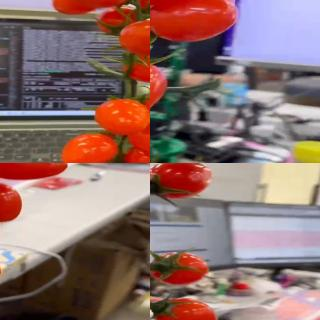tomato: (150, 0, 241, 41), (93, 94, 150, 136), (150, 163, 213, 198), (150, 250, 210, 285), (59, 131, 120, 163), (97, 4, 141, 40), (150, 298, 217, 320), (0, 163, 71, 183), (116, 20, 150, 55), (150, 0, 242, 12), (117, 50, 150, 83), (50, 0, 111, 17), (150, 59, 168, 116), (0, 181, 23, 224), (129, 120, 150, 155), (65, 0, 131, 11), (60, 152, 112, 163), (125, 143, 150, 163)
